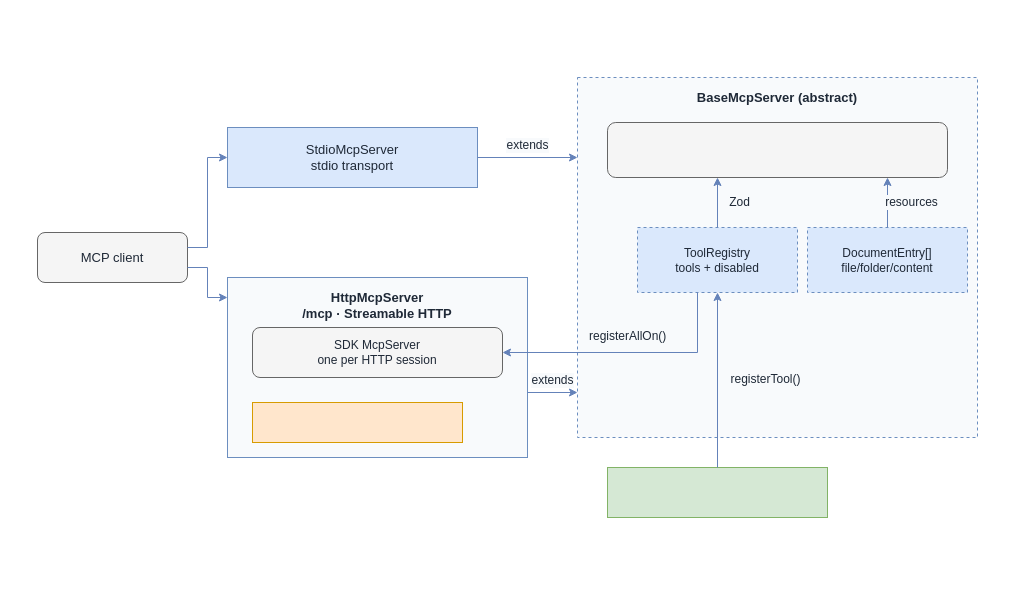
This 1034x594 diagram has some shape labels left out. Here are the shapes that lost their labels. From the top down, the box of each, then its label:
(606, 122, 948, 178): SDK McpServer base server
(252, 402, 462, 442): SessionToolSet (optional)
(606, 466, 828, 518): llm-chat Tool / ToolPackage
